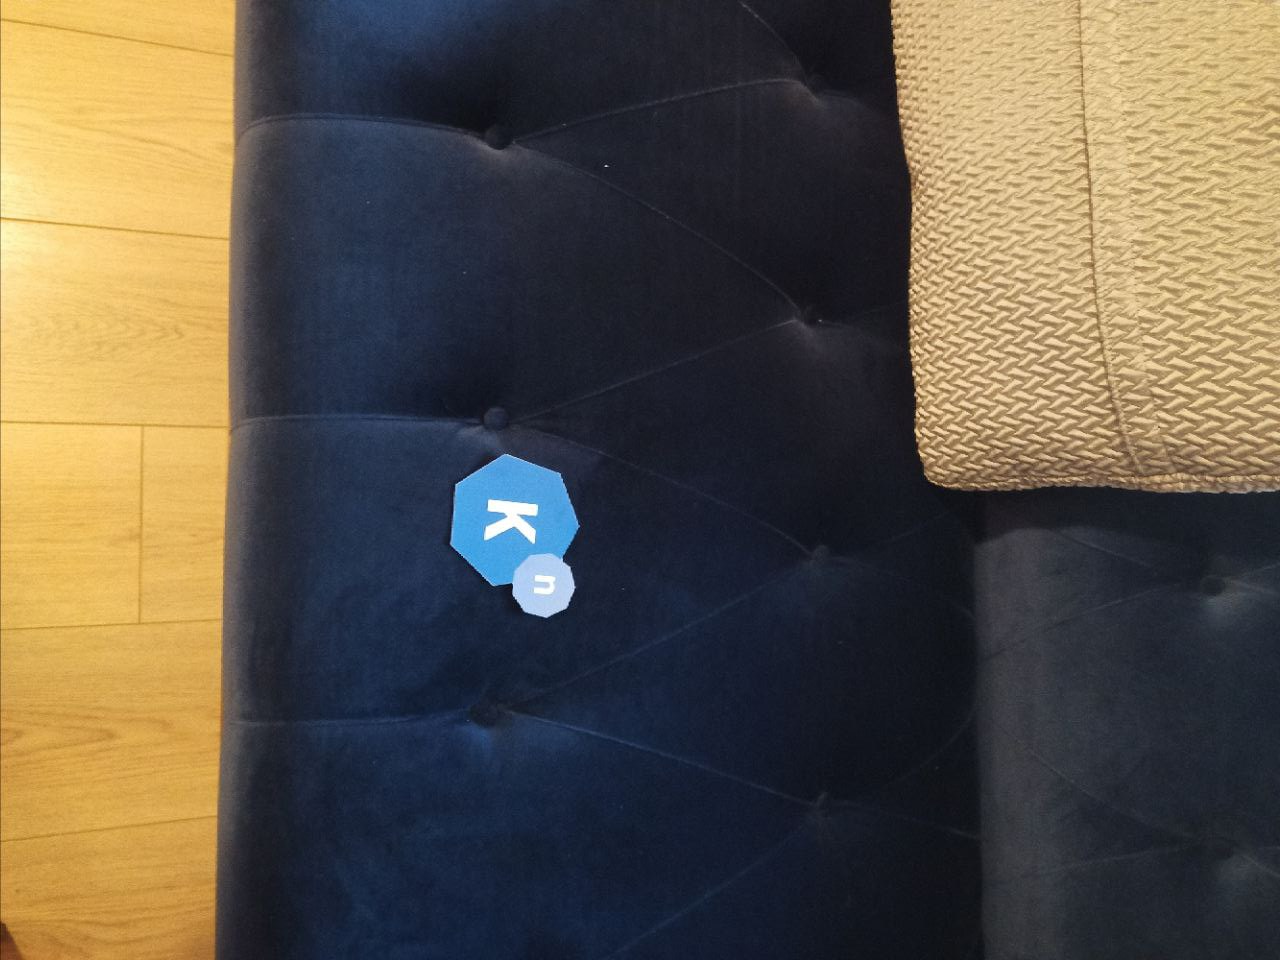knative: (449, 452, 582, 620)
